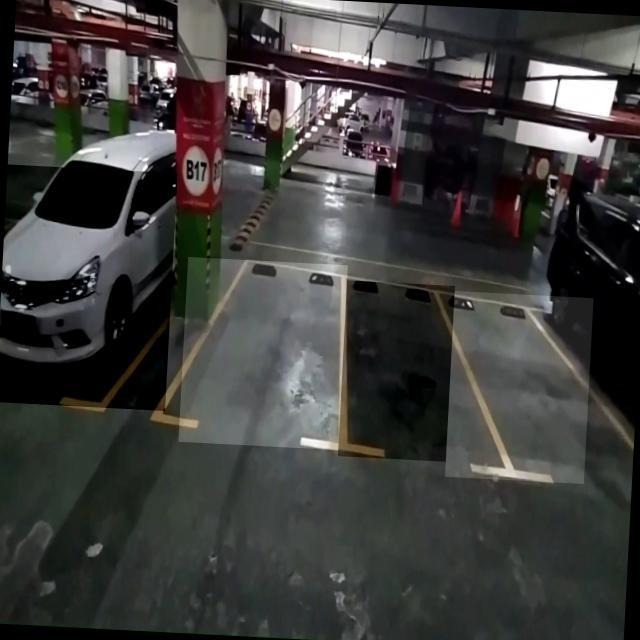empty: (178, 257, 348, 450), (444, 291, 594, 484), (338, 281, 455, 462)
occupied: (0, 164, 177, 411)
